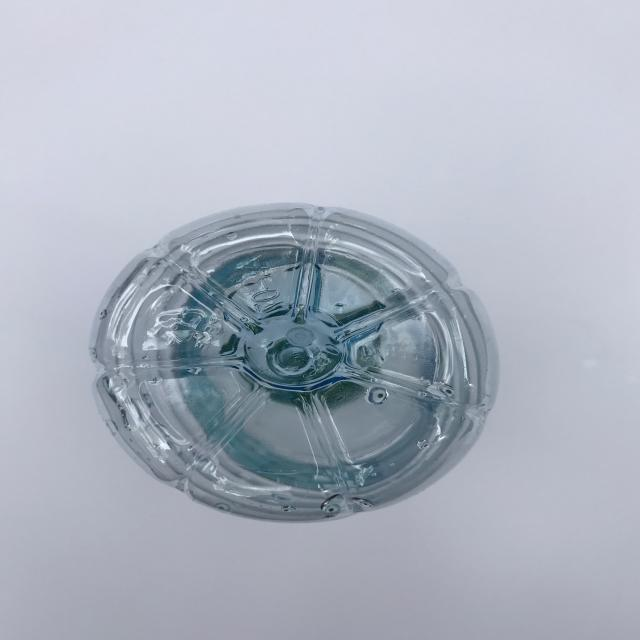plastic: (88, 201, 501, 523)
